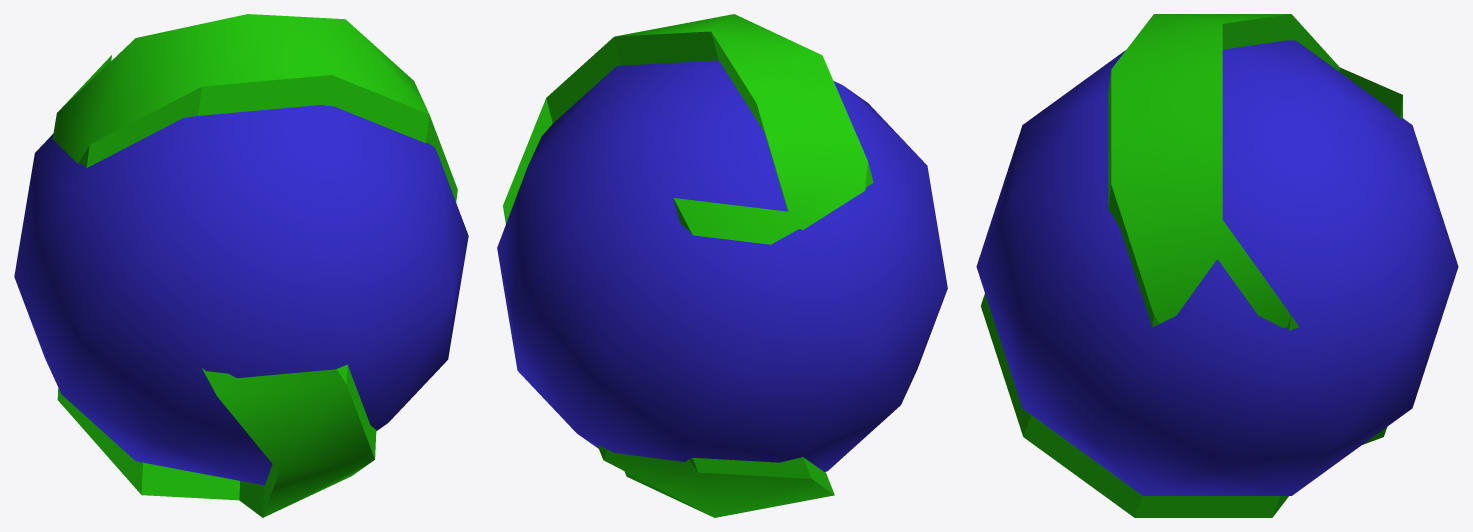
The model's file is Planert.fbx.
3 renders of one model, left to right at view 1: azimuth 30°, elevation 25°; view 2: azimuth 150°, elevation 25°; view 3: azimuth 270°, elevation 25°, orthographic. The views are drawn at different scales.
Visible parts, largest first — view 1: GeoSphere002, GeoSphere001; view 2: GeoSphere002, GeoSphere001; view 3: GeoSphere002, GeoSphere001.
Part boxes in pixels (bbox=[...]): GeoSphere002: bbox=[14, 104, 468, 485]; GeoSphere001: bbox=[52, 14, 457, 517]; GeoSphere002: bbox=[497, 60, 947, 471]; GeoSphere001: bbox=[503, 14, 873, 517]; GeoSphere002: bbox=[976, 40, 1458, 495]; GeoSphere001: bbox=[981, 14, 1402, 517].
Bounding box in the file's own units: 88.98 × 106 × 93.56.
